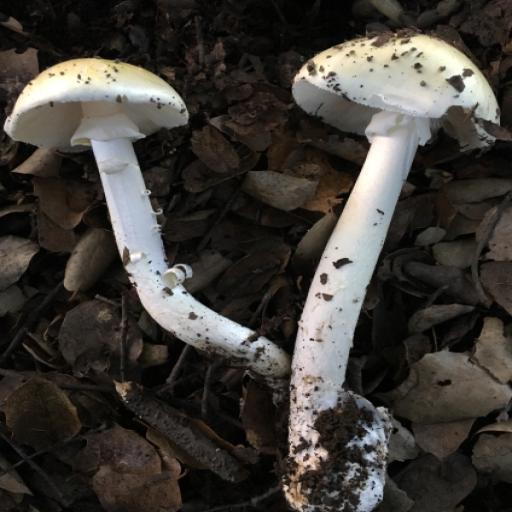mushroom: (3, 18, 336, 415), (1, 0, 1, 1)
